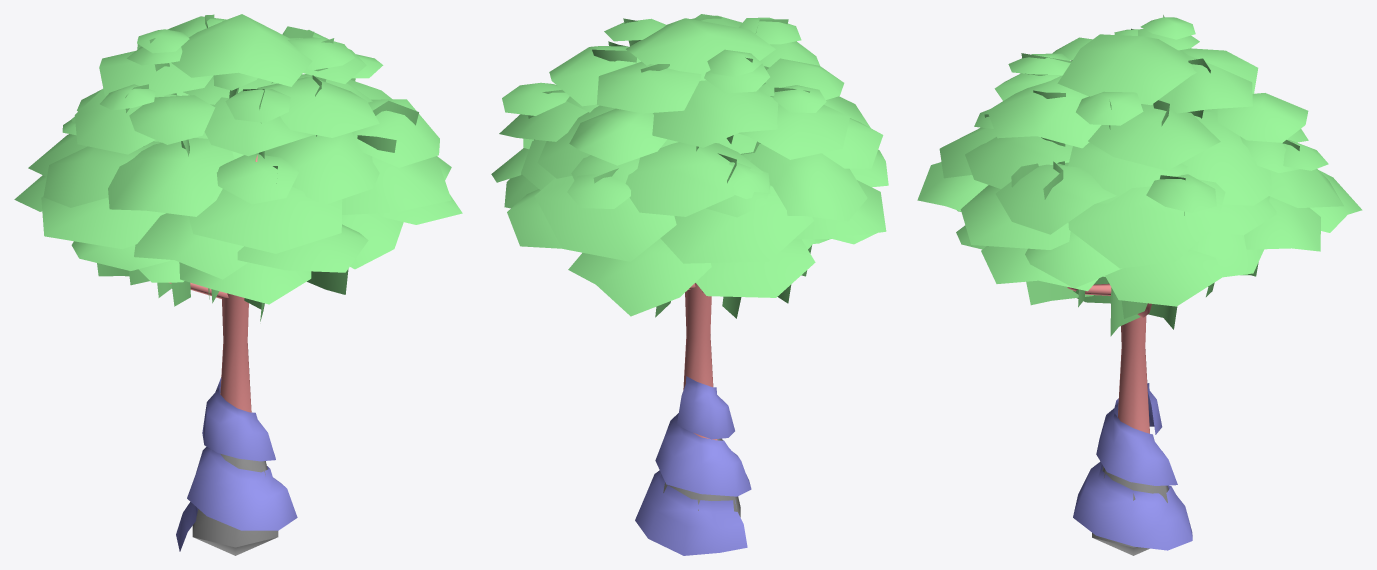
Rendered from PriPlain_LandMark1_tree01.gltf.
3 views of the same model, side by side, from view 1: azimuth 30°, elevation 25°; view 2: azimuth 150°, elevation 25°; view 3: azimuth 270°, elevation 25° (orthographic). The views are drawn at different scales.
Visible parts, largest first — view 1: PriPlain_LandMark1_tree01; view 2: PriPlain_LandMark1_tree01; view 3: PriPlain_LandMark1_tree01.
Part boxes in pixels (x1=…): PriPlain_LandMark1_tree01: x1=14, y1=14, x2=462, y2=555; PriPlain_LandMark1_tree01: x1=491, y1=14, x2=888, y2=555; PriPlain_LandMark1_tree01: x1=917, y1=15, x2=1362, y2=555.
Size of the model in its own units: 17.47 by 23.2 by 18.28.
